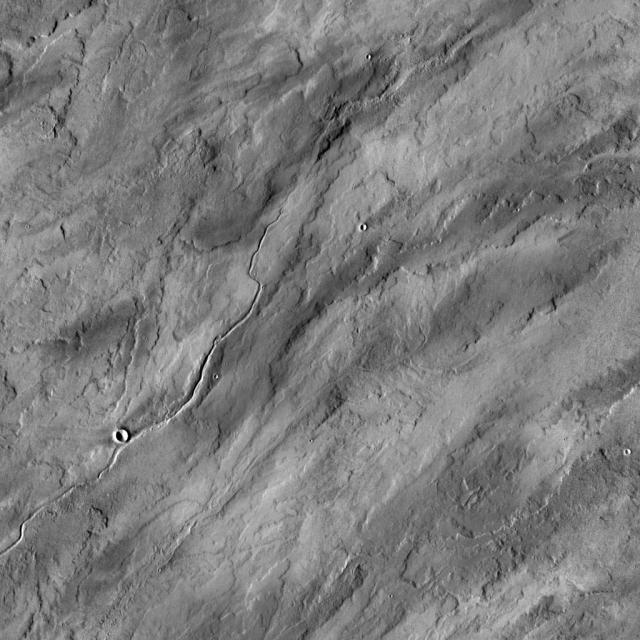crater: (123, 432, 135, 444)
